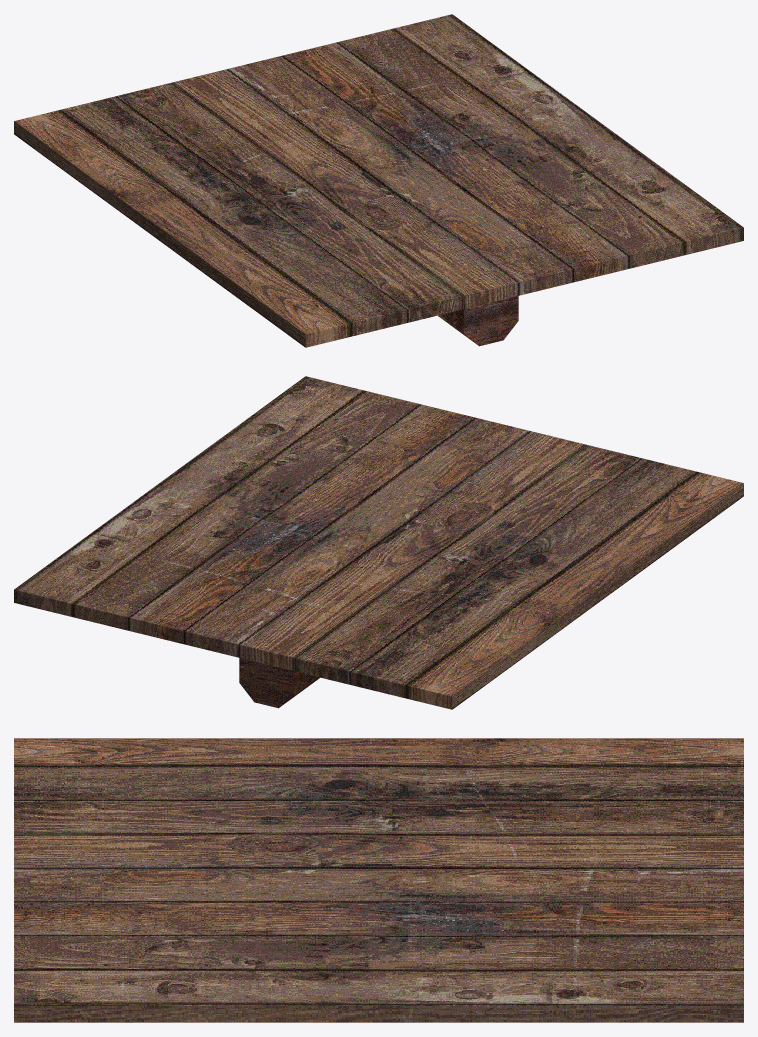
File: ceiling-beamW.glb
The picture shows the model from 3 angles, top to bottom: view 1: azimuth 30°, elevation 25°; view 2: azimuth 150°, elevation 25°; view 3: azimuth 270°, elevation 25°; orthographic projection. The views are drawn at different scales.
Visible parts, largest first — view 1: ceiling-beamW.001; view 2: ceiling-beamW.001; view 3: ceiling-beamW.001.
Part boxes in pixels (x1,y1,x2,y2): ceiling-beamW.001: [14, 14, 743, 347]; ceiling-beamW.001: [14, 376, 743, 709]; ceiling-beamW.001: [14, 738, 743, 1022].
Size of the model in its own units: 1.74 by 0.2046 by 2.
Materials: 2 (2 with a texture image).
